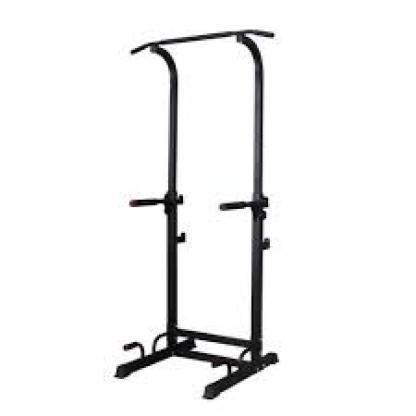chinning dipping: (114, 28, 279, 401)
